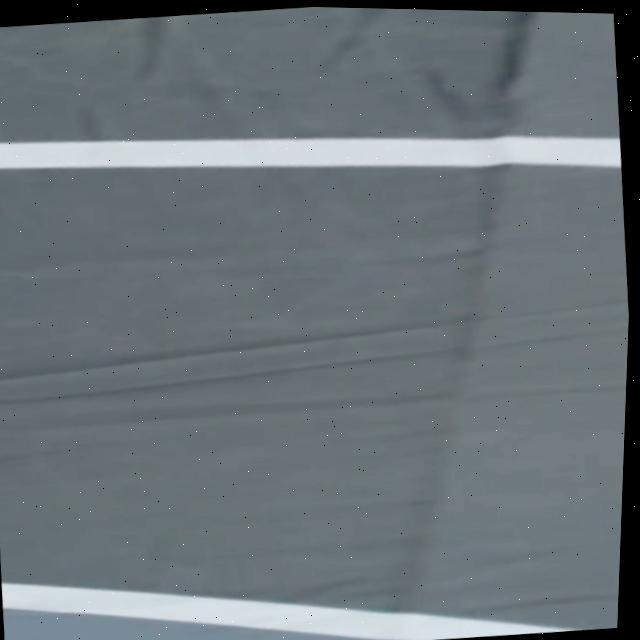center: (0, 136, 621, 170)
left: (0, 584, 580, 640)
